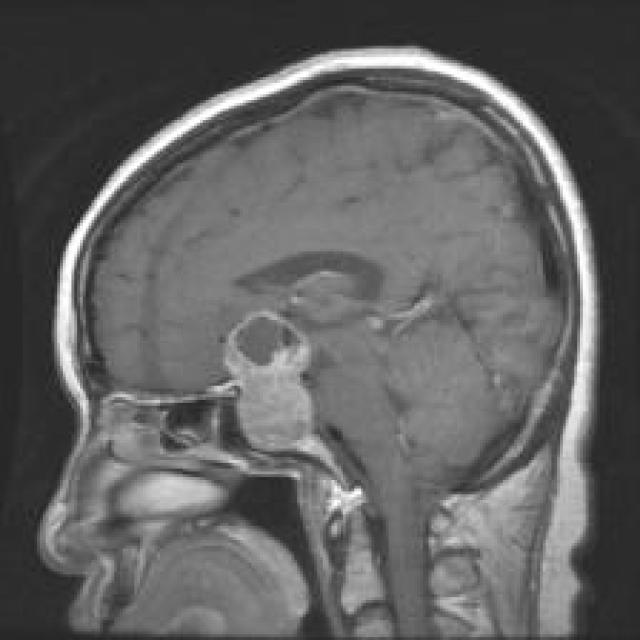pituitary_tumor: (206, 292, 338, 473)
